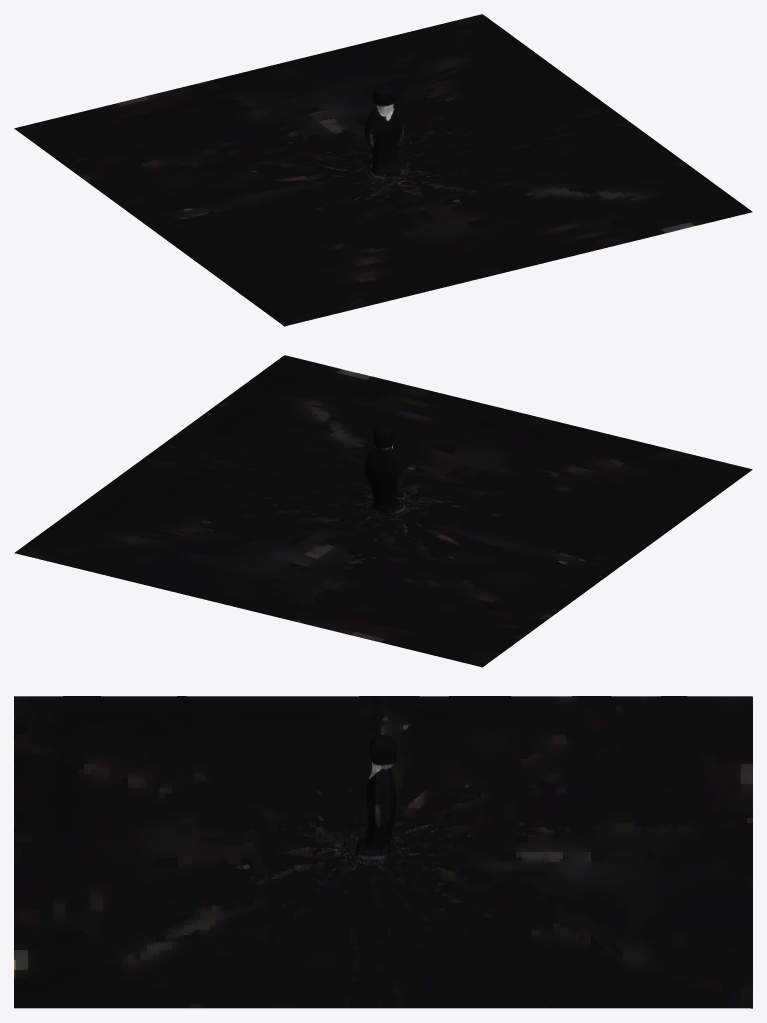
Rendered from trellis_result.glb.
The picture shows the model from 3 angles, top to bottom: view 1: azimuth 30°, elevation 25°; view 2: azimuth 150°, elevation 25°; view 3: azimuth 270°, elevation 25°; orthographic projection. The views are drawn at different scales.
Parts seen in each view (by area): view 1: world; view 2: world; view 3: world.
Boxes of the visible parts, bbox=[...] form: world: bbox=[14, 14, 752, 326]; world: bbox=[14, 355, 752, 667]; world: bbox=[14, 696, 752, 1008].
Size of the model in its own units: 1 by 0.1709 by 1.
1 material, 1 textured.
